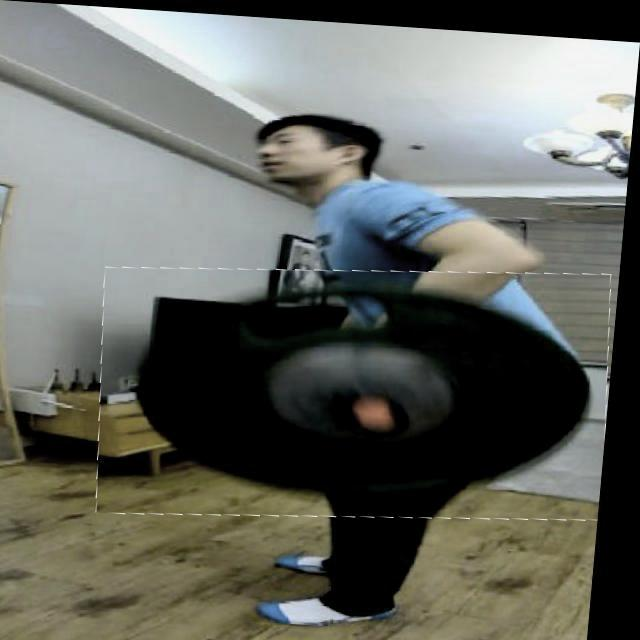barbell: (96, 246, 624, 530)
